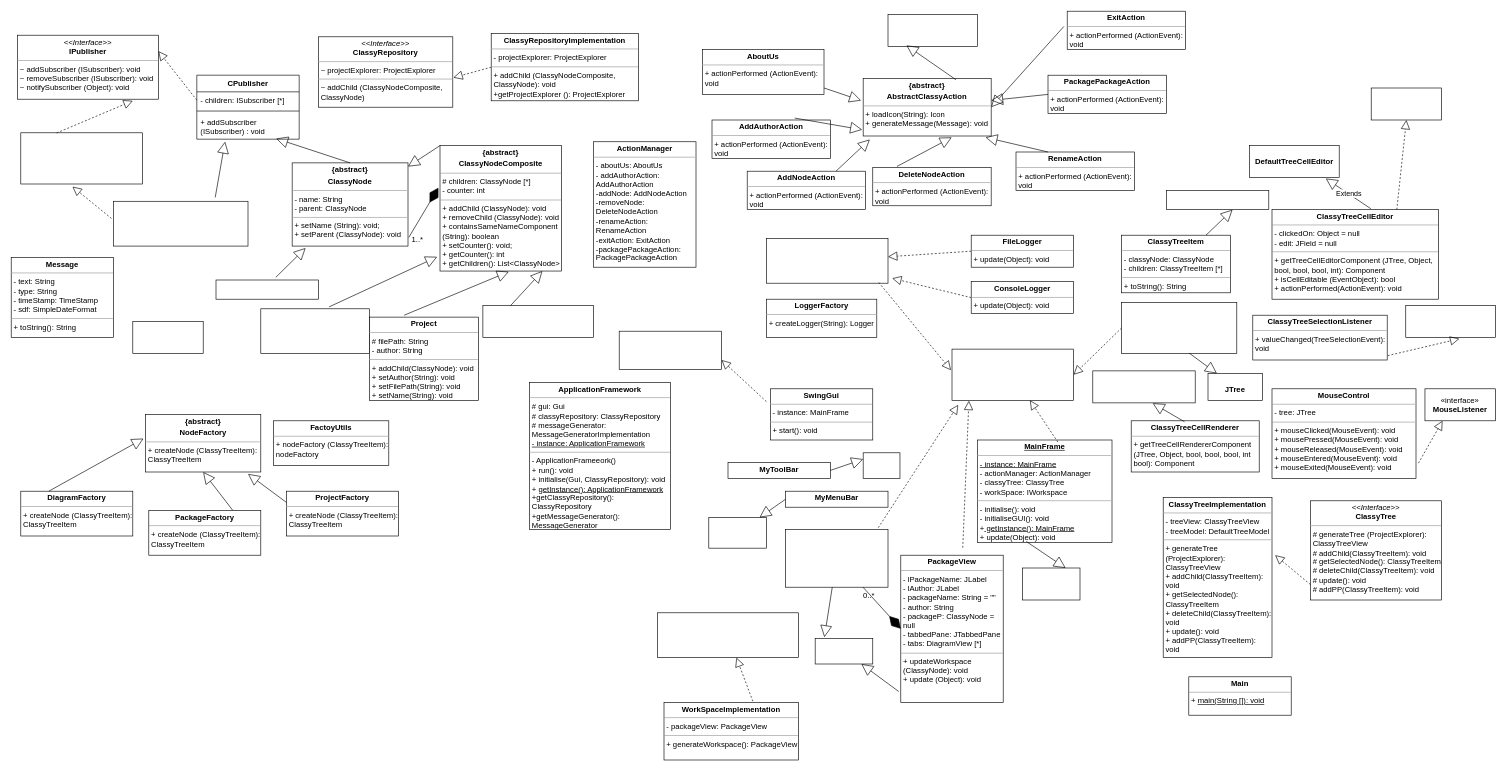
The diagram is 1507 pixels wide and 771 high, and some of its shapes have lost their labels. The centre of each missing label's shape, as x and y in pixels:
<<Interface>> ISubscriber ~ update (Object): void: point (1012, 374)
<<Interface>> IWorkspace # generateWorkspace () PackageView: point (727, 635)
<<Interface>> Logger + update(Object): void: point (827, 260)
<<Interface>> MessageGenerator # createMessage(PossibleErrors): void: point (81, 158)
AbstractAction: point (932, 30)
ClassyTreeView - ourEditor: ClassyTreeCellEditor + update(Object): void: point (1179, 328)
DefaultMutableTreeNode: point (1217, 200)
DefaultTreeCellRenderer: point (1143, 386)
Diagram: point (266, 289)
DiagramView - diagram: Diagram + update(Object): void + equals(Object): bool: point (836, 558)
Gui + start(): void: point (670, 350)
JFrame: point (1051, 583)
JMenuBar: point (737, 532)
JPanel: point (844, 651)
JToolBar: point (881, 465)
MessageGeneratorImplementation + createMessage(PossibleErrors): void: point (180, 223)
Package + addChild(ClassyNode): void + setName(String): void: point (315, 331)
ProjectExplorer + addChild(ClassyNode): void: point (538, 321)
«enum» PossibleErrors: point (167, 337)
«interface» ActionListener: point (1406, 103)
«interface» TreeSelectionListener: point (1450, 321)
